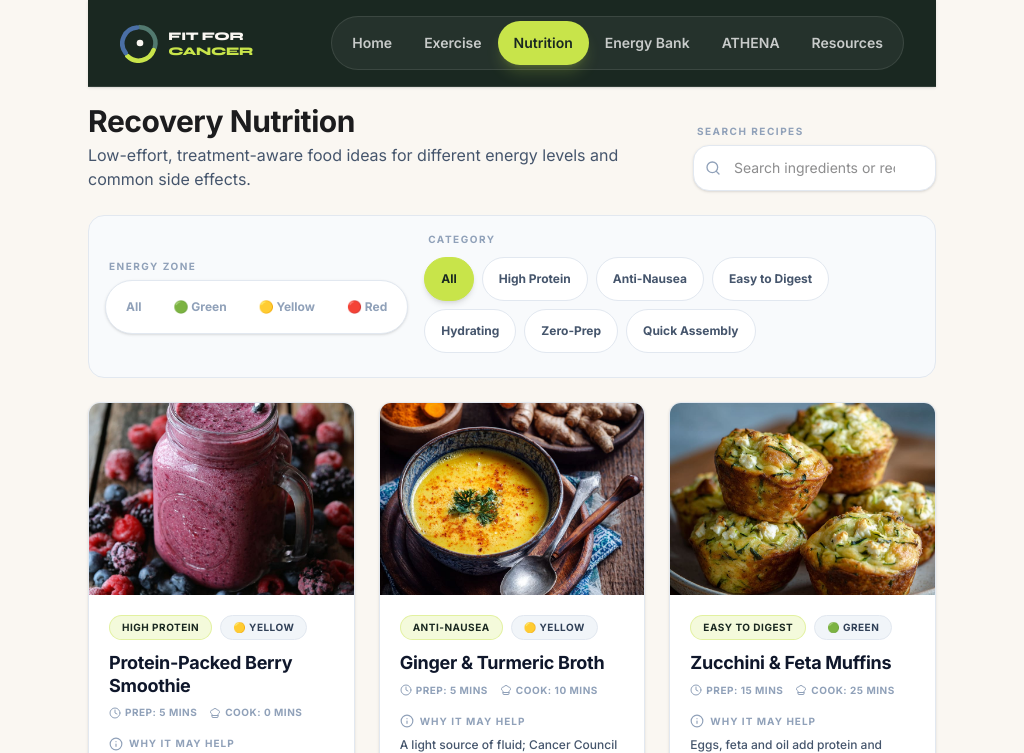
App.tsx — smoke › updates the nutrition search filter
The width and height of the screenshot is (1024, 753).
expect the heading "Protein-Packed Berry Smoothie" is shown: met, box [109,652,292,696]
Type "watermelon" into the field labelled "Search recipes" at {"x": 814, "y": 168}, box [693,145,936,191]
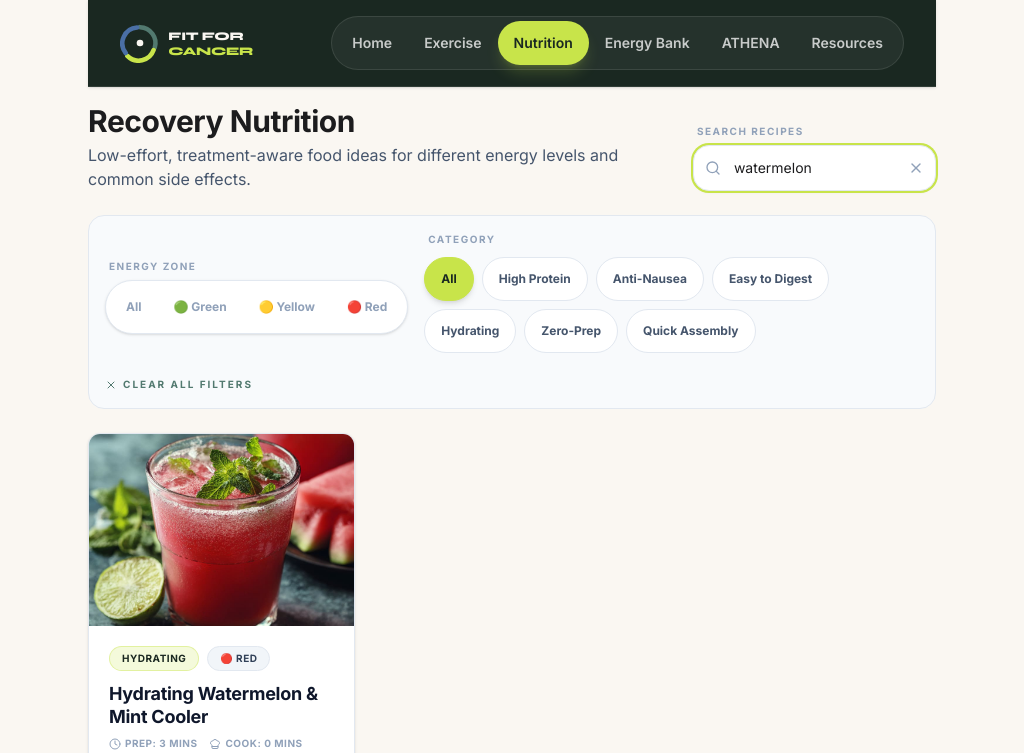
expect the heading "Hydrating Watermelon & Mint Cooler" is shown: met, box [109,683,334,728]
expect the heading "Protein-Packed Berry Smoothie" is gone: met
